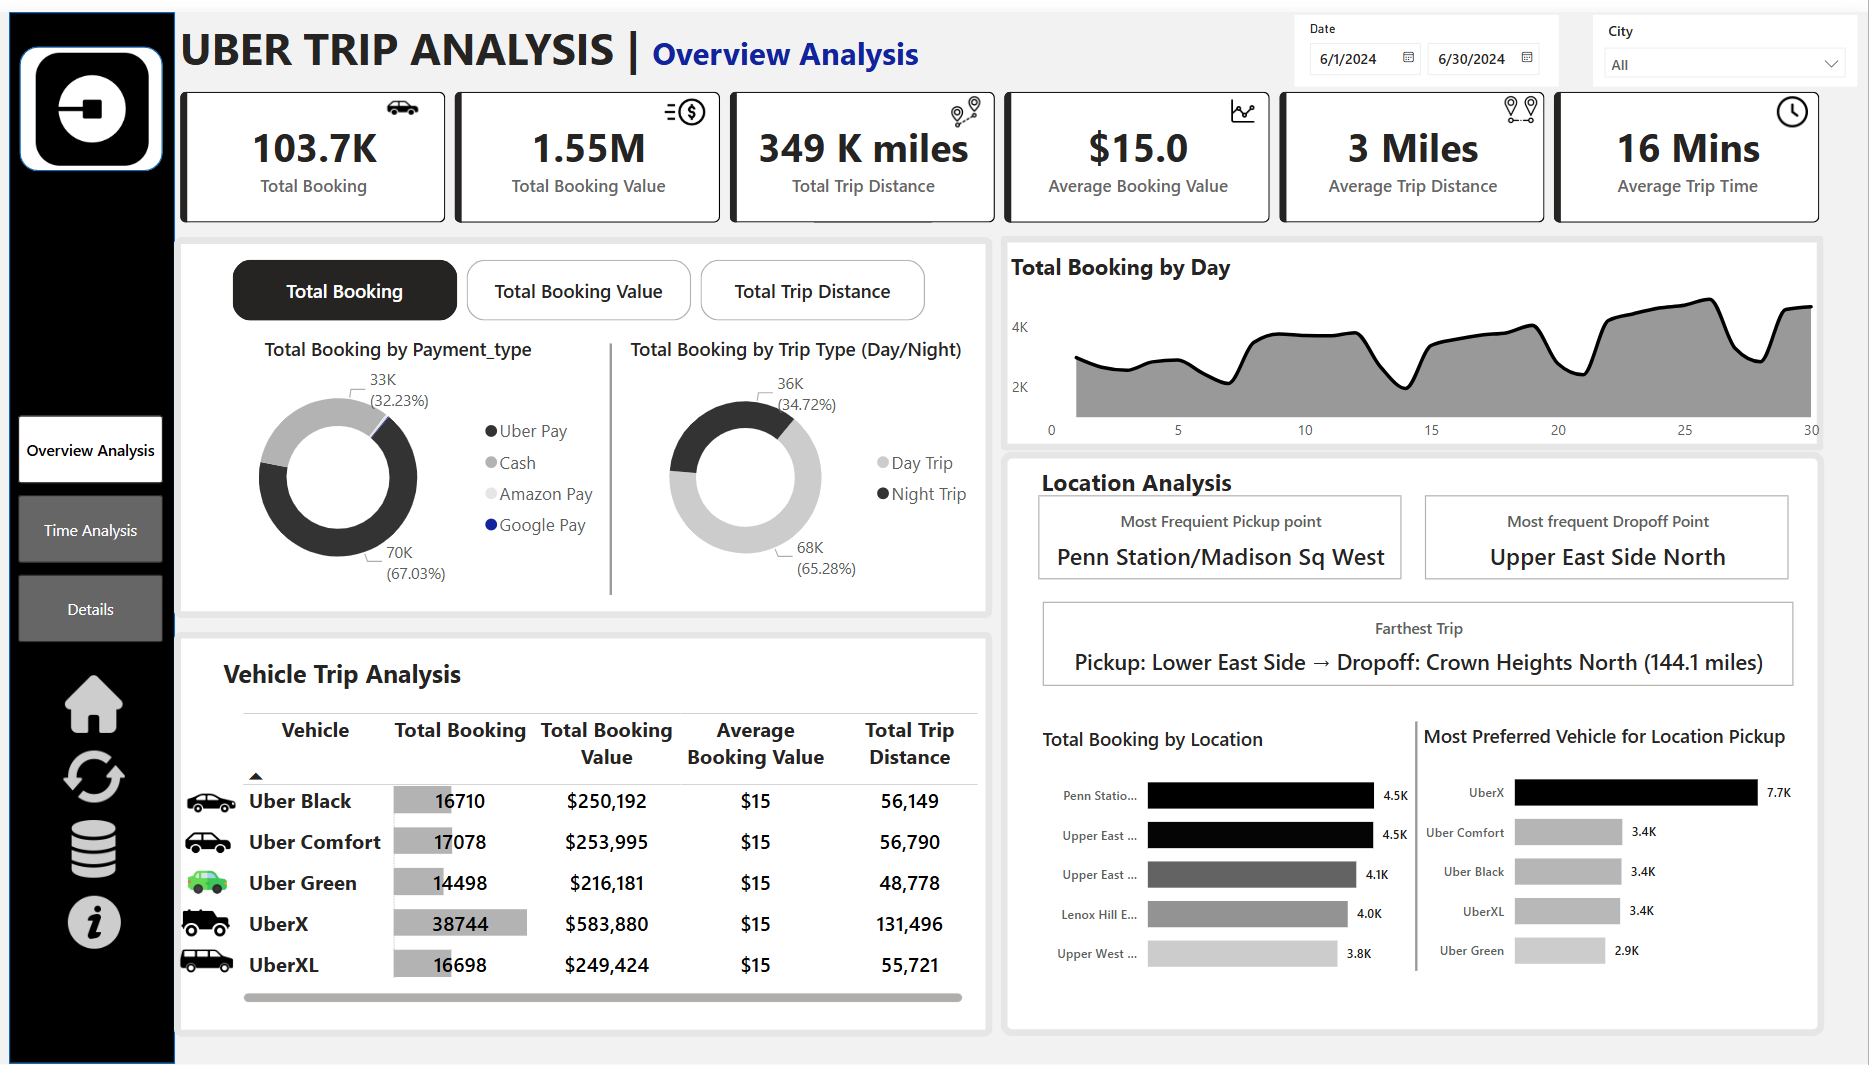

This screenshot's page, from the dashboard's own definition file:
{"tool":"powerbi","page":{"name":"Overview Analysis","canvas":[1600,900],"ordinal":0},"visuals":[{"type":"shape","box":[9.7,0,142,899.5],"z":0},{"type":"shape","box":[19.2,29.7,122.4,106.7],"z":1000},{"type":"textbox","box":[151.6,0,824.9,108.3],"z":2000},{"type":"image","box":[22.7,29.7,117.2,106.7],"z":3000},{"type":"cardVisual","fields":{"Data":["Trip Details.Total Booking","Trip Details.Total Booking Value","Trip Details.Total Trip Distance","Trip Details.Average Booking Value","Trip Details.Average Trip Distance","Trip Details.Average Trip Time"]},"box":[151.4,62.9,1415.7,122.9],"z":4000},{"type":"pageNavigator","box":[17.5,344.5,124.2,195.9],"z":5000},{"type":"image","box":[565.1,63,45.3,45.3],"z":6000},{"type":"image","box":[792.9,67.1,72.9,37.1],"z":7000},{"type":"image","box":[1271.4,64.3,64.3,38.6],"z":8000},{"type":"image","box":[1502.9,67.1,64.3,37.1],"z":9000},{"type":"image","box":[305.2,63,82.7,37.4],"z":10000},{"type":"image","box":[1028.6,68.6,72.9,32.9],"z":11000},{"type":"shape","box":[152,192,700,326],"z":12000},{"type":"advancedSlicerVisual","fields":{"Values":["Dynamic Measure.Dynamic Measure"]},"box":[196,206,604,62],"z":13000},{"type":"donutChart","fields":{"Y":["Trip Details.Total Booking"],"Category":["Trip Details.Payment_type"]},"box":[161.2,277.5,362.5,220],"z":14000},{"type":"donutChart","fields":{"Y":["Trip Details.Total Booking"],"Category":["Trip Details.Trip Type (Day/Night)"]},"box":[523.8,277.5,320,220],"z":15000},{"type":"shape","box":[151.7,530,700,346.7],"z":16000},{"type":"pivotTable","fields":{"Rows":["Trip Details.Vehicle"],"Values":["Trip Details.Total Booking","Trip Details.Total Booking Value","Trip Details.Average Booking Value","Trip Details.Total Trip Distance Measure"]},"box":[205,593.3,638.3,258.3],"z":17000},{"type":"image","box":[116.7,648.3,133.3,56.7],"z":18000},{"type":"image","box":[106.7,685,148.3,50],"z":19000},{"type":"image","box":[136.7,721.7,85,43.3],"z":20000},{"type":"image","box":[125,753.3,108.3,51.7],"z":21000},{"type":"image","box":[116.7,781.7,125,60],"z":22000},{"type":"cardVisual","fields":{"Data":["Trip Details.Title for grid"]},"box":[152.1,517.6,285,85.7],"z":23000},{"type":"shape","box":[858.6,191.4,704.3,184.3],"z":24000},{"type":"areaChart","fields":{"Category":["Calendar Table.Date.Variation.Date Hierarchy.Day"],"Y":["Trip Details.Total Booking"]},"box":[861.4,205.7,704.3,170],"z":25000},{"type":"shape","box":[858.4,376.1,704.8,500.1],"z":26000},{"type":"cardVisual","fields":{"Data":["Trip Details.Most Frequient Pickup point","Trip Details.Most frequent Droppff Point"]},"box":[884.9,407.5,652.3,82.2],"z":27000},{"type":"cardVisual","fields":{"Data":["Trip Details.Farthest Trip"]},"box":[888.4,498.4,652.3,82.2],"z":28000},{"type":"barChart","fields":{"Y":["Trip Details.Total Booking"],"Category":["Location Table.Location"]},"box":[888.4,610.3,327,225.6],"z":29000},{"type":"barChart","title":"Most Preferred Vehicle for Location Pickup","fields":{"Category":["Trip Details.Vehicle"],"Y":["CountNonNull(Trip Details.PULocationID)"]},"box":[1215.4,608.6,327,225.6],"z":30000},{"type":"shape","box":[1063.2,606.8,300.8,213.3],"z":31000},{"type":"shape","box":[374.2,283.3,300.8,215.1],"z":32000},{"type":"cardVisual","fields":{"Data":["Trip Details.Title for Location grid"]},"box":[876.1,355,302.5,85.7],"z":33000},{"type":"slicer","fields":{"Values":["Calendar Table.Date"]},"box":[1110,2.9,225.7,61.4],"z":34000},{"type":"slicer","fields":{"Values":["Location Table.City"]},"box":[1364.3,2.9,225.7,61.4],"z":35000},{"type":"image","box":[49,561.3,68.2,59.5],"z":36000},{"type":"image","box":[49,622.6,68.2,63],"z":37000},{"type":"image","box":[52.5,685.5,59.5,61.2],"z":38000},{"type":"image","box":[52.5,750.2,61.2,56],"z":39000}]}

Visuals, with their boxes on the page's 1600x900 design canvas (x1, y1, x2, y2). These are canvas units, not pixel positions in the 1869x1065 screenshot, which may show the page scaled, cropped or inside an application window:
shape: BBox(10, 0, 152, 900)
shape: BBox(19, 30, 142, 136)
textbox: BBox(152, 0, 976, 108)
image: BBox(23, 30, 140, 136)
cardVisual - Trip Details.Total Booking x Trip Details.Total Booking Value: BBox(151, 63, 1567, 186)
pageNavigator: BBox(18, 344, 142, 540)
image: BBox(565, 63, 610, 108)
image: BBox(793, 67, 866, 104)
image: BBox(1271, 64, 1336, 103)
image: BBox(1503, 67, 1567, 104)
image: BBox(305, 63, 388, 100)
image: BBox(1029, 69, 1102, 102)
shape: BBox(152, 192, 852, 518)
advancedSlicerVisual - Dynamic Measure.Dynamic Measure: BBox(196, 206, 800, 268)
donutChart - Trip Details.Total Booking x Trip Details.Payment_type: BBox(161, 278, 524, 498)
donutChart - Trip Details.Total Booking x Trip Details.Trip Type (Day/Night): BBox(524, 278, 844, 498)
shape: BBox(152, 530, 852, 877)
pivotTable - Trip Details.Vehicle x Trip Details.Total Booking: BBox(205, 593, 843, 852)
image: BBox(117, 648, 250, 705)
image: BBox(107, 685, 255, 735)
image: BBox(137, 722, 222, 765)
image: BBox(125, 753, 233, 805)
image: BBox(117, 782, 242, 842)
cardVisual - Trip Details.Title for grid: BBox(152, 518, 437, 603)
shape: BBox(859, 191, 1563, 376)
areaChart - Calendar Table.Date.Variation.Date Hierarchy.Day x Trip Details.Total Booking: BBox(861, 206, 1566, 376)
shape: BBox(858, 376, 1563, 876)
cardVisual - Trip Details.Most Frequient Pickup point x Trip Details.Most frequent Droppff Point: BBox(885, 408, 1537, 490)
cardVisual - Trip Details.Farthest Trip: BBox(888, 498, 1541, 581)
barChart - Trip Details.Total Booking x Location Table.Location: BBox(888, 610, 1215, 836)
"Most Preferred Vehicle for Location Pickup" barChart: BBox(1215, 609, 1542, 834)
shape: BBox(1063, 607, 1364, 820)
shape: BBox(374, 283, 675, 498)
cardVisual - Trip Details.Title for Location grid: BBox(876, 355, 1179, 441)
slicer - Calendar Table.Date: BBox(1110, 3, 1336, 64)
slicer - Location Table.City: BBox(1364, 3, 1590, 64)
image: BBox(49, 561, 117, 621)
image: BBox(49, 623, 117, 686)
image: BBox(52, 686, 112, 747)
image: BBox(52, 750, 114, 806)
